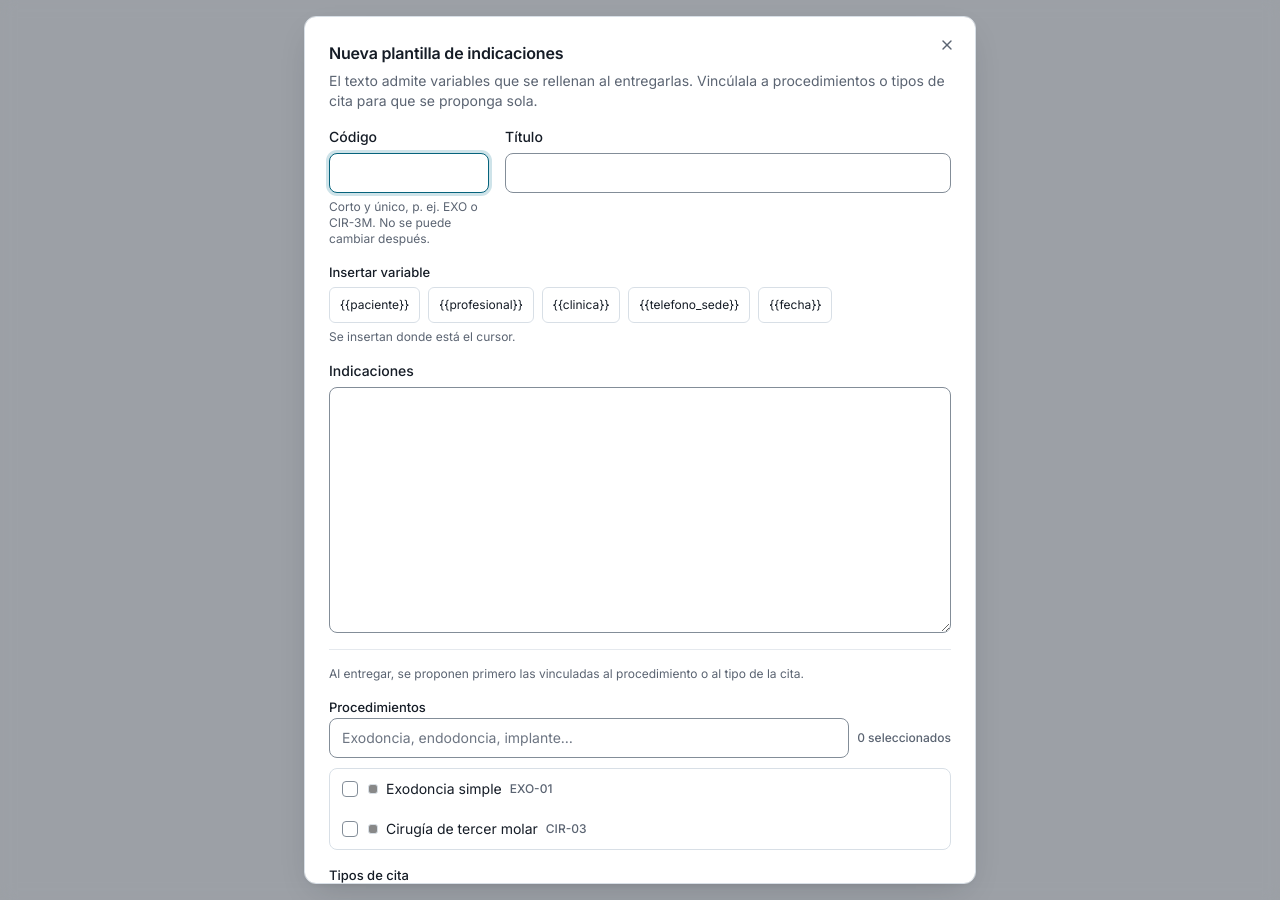
Scenario: PostOpTemplateFormModal › Enter en el filtro de procedimientos no envía el formulario
This screenshot has width=1280, height=900.
Step 1. Type "EXO" into the field labelled "Código" → point(409, 173), box [329, 153, 489, 193]
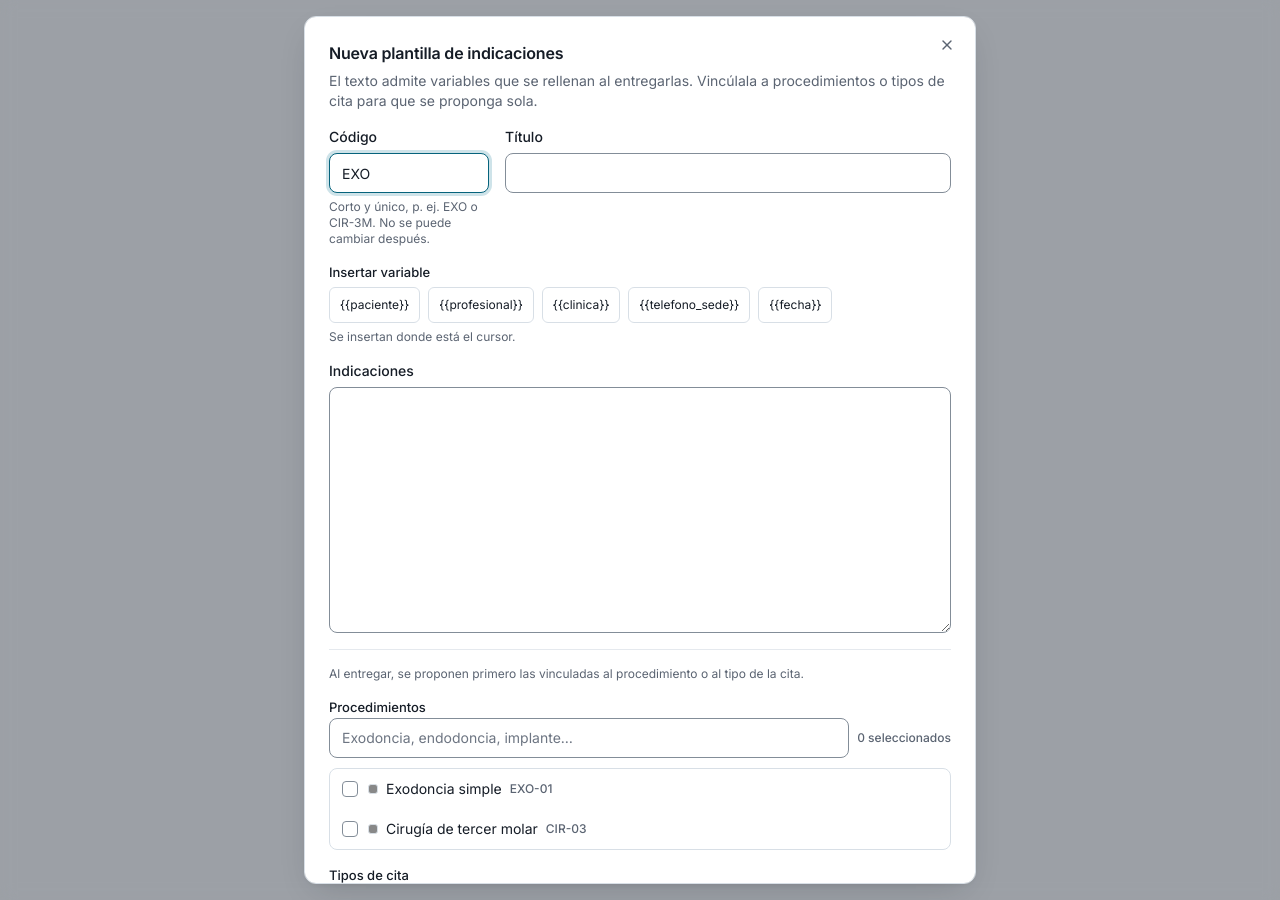
Step 2. Type "X" into the field labelled "Título" → point(728, 173), box [505, 153, 951, 193]
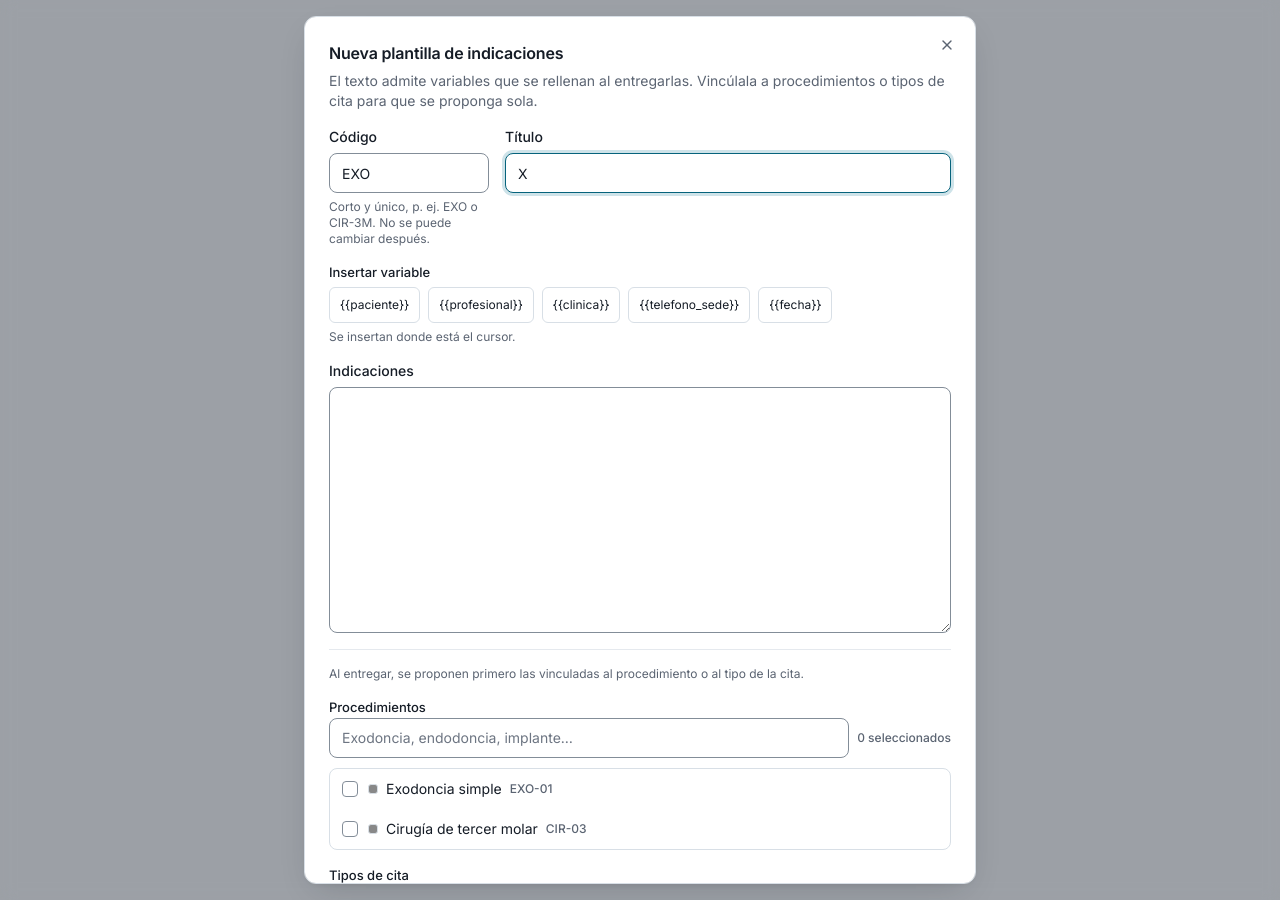
Step 3. Type "Texto" into the text box labelled "Indicaciones" → point(640, 510), box [329, 387, 951, 632]
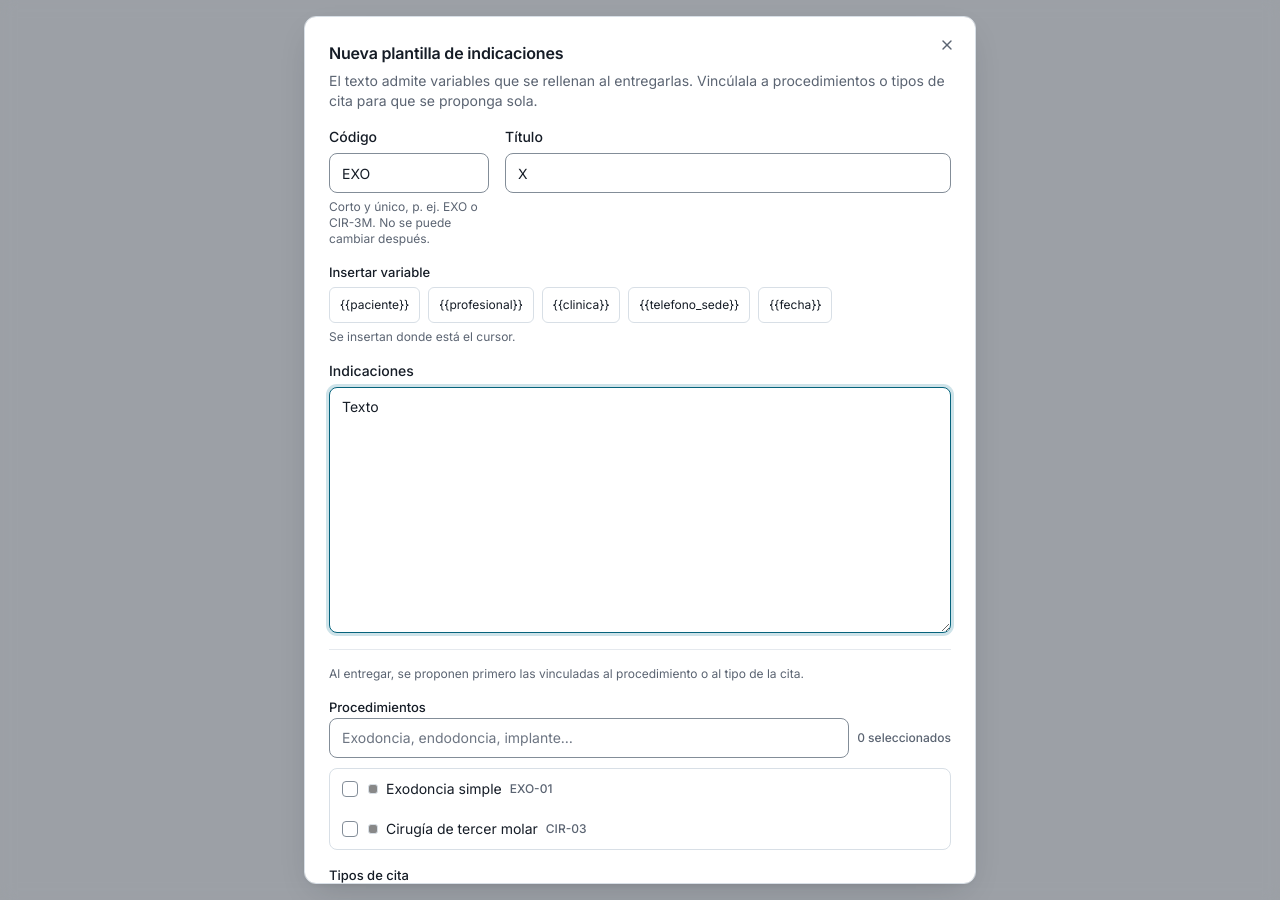
Step 4. Type "exo" into the search field named "buscar procedimiento" → point(589, 738), box [329, 718, 849, 758]
Then press Enter
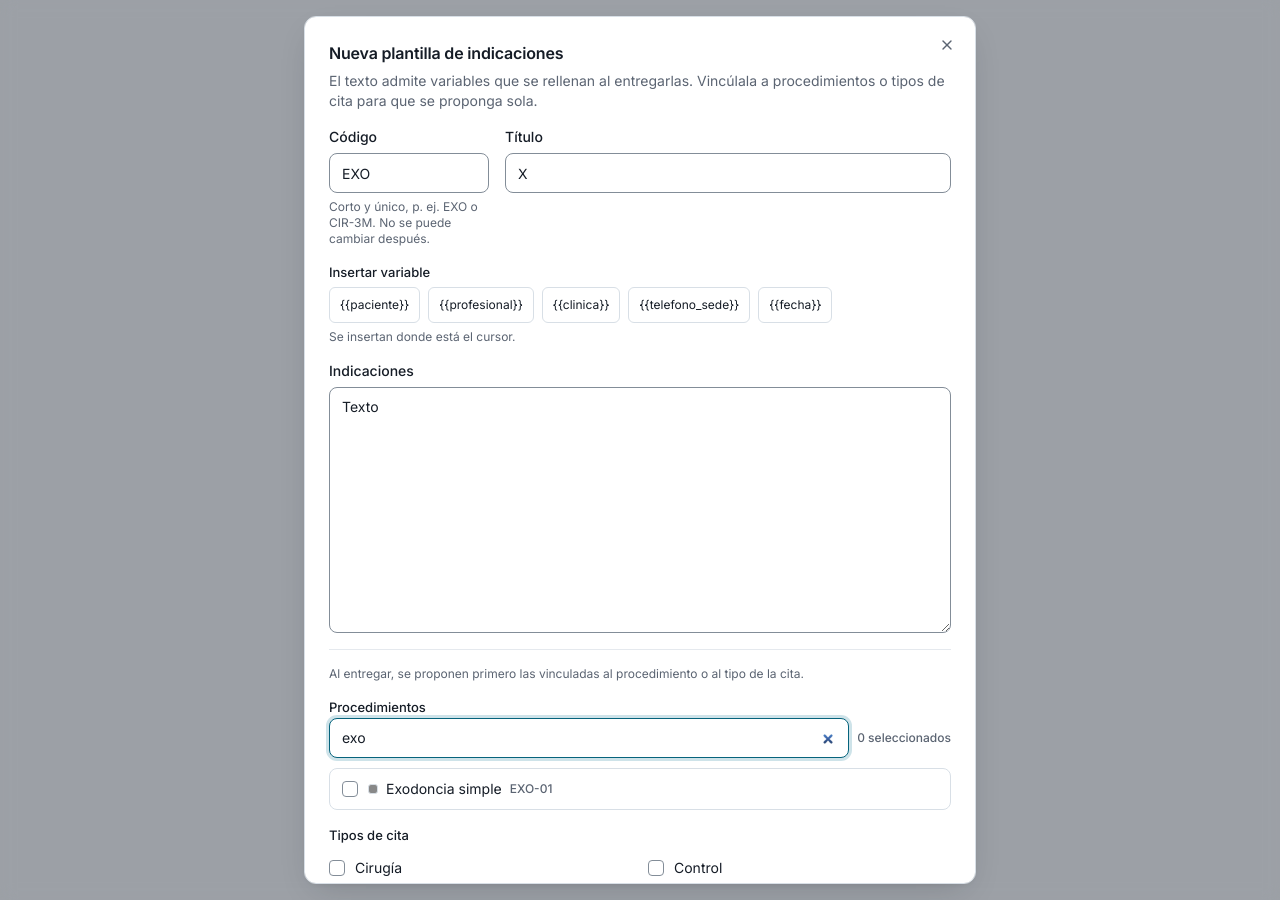
Expected: the number of checkboxes labelled "Exodoncia simple EXO-01" is 1, [342, 780, 358, 796]
